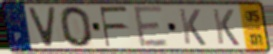E: (131, 5, 170, 50)
F: (98, 5, 130, 49)
K: (210, 7, 242, 48), (177, 7, 208, 47)
O: (58, 5, 96, 49)
V: (26, 5, 58, 48)
